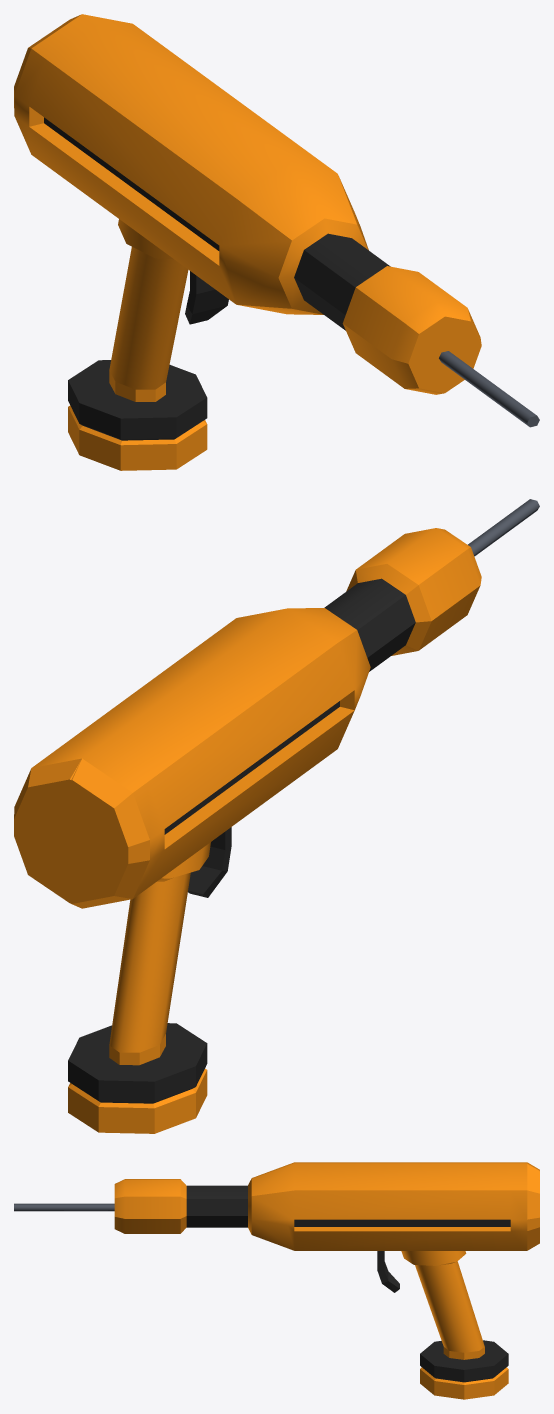
Rendered from SM_drill_machine.fbx.
3 renders of one model, top to bottom at view 1: azimuth 30°, elevation 25°; view 2: azimuth 150°, elevation 25°; view 3: azimuth 270°, elevation 25°, orthographic. The views are drawn at different scales.
Visible parts, largest first — view 1: drill_machine; view 2: drill_machine; view 3: drill_machine.
Boxes of the visible parts, x1,y1,x2,y2 form: drill_machine: [14, 14, 539, 470]; drill_machine: [14, 499, 539, 1133]; drill_machine: [14, 1162, 539, 1399].
Bounding box in the file's own units: 22.19 × 60.31 × 131.
